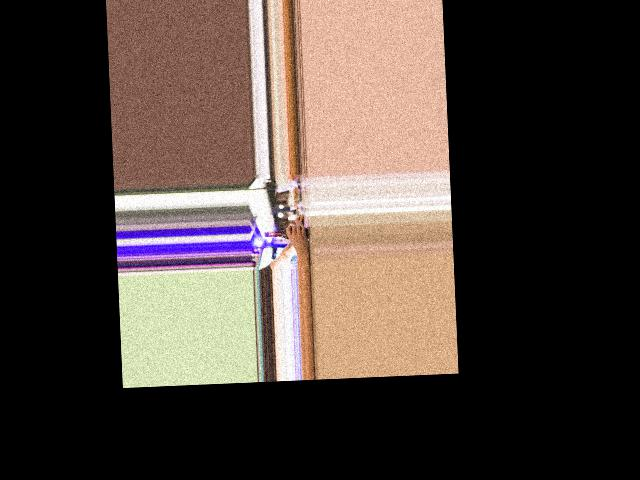beer: (264, 227, 308, 240)
